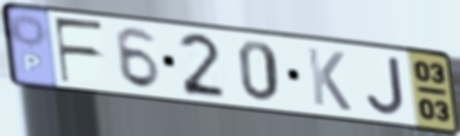0: (235, 39, 281, 105)
2: (175, 31, 232, 102)
6: (113, 25, 163, 91)
F: (51, 16, 107, 85)
J: (364, 54, 409, 117)
K: (304, 45, 354, 114)
